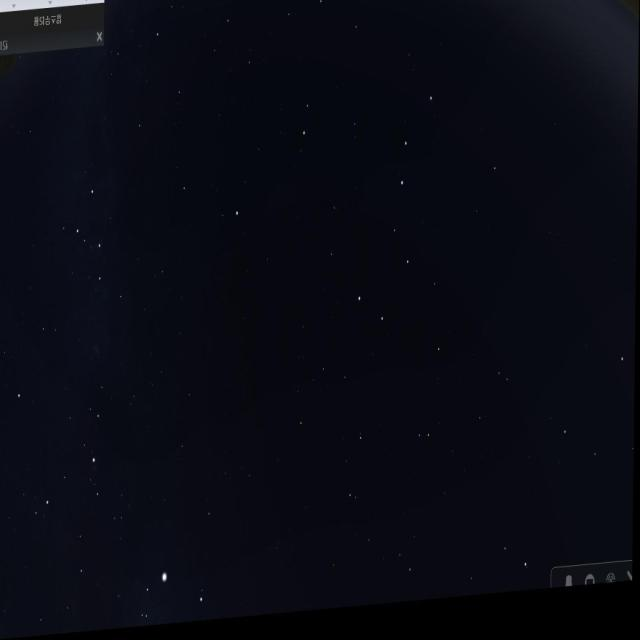cassiopeia: (68, 173, 136, 321)
ursa_major: (355, 79, 440, 351)
